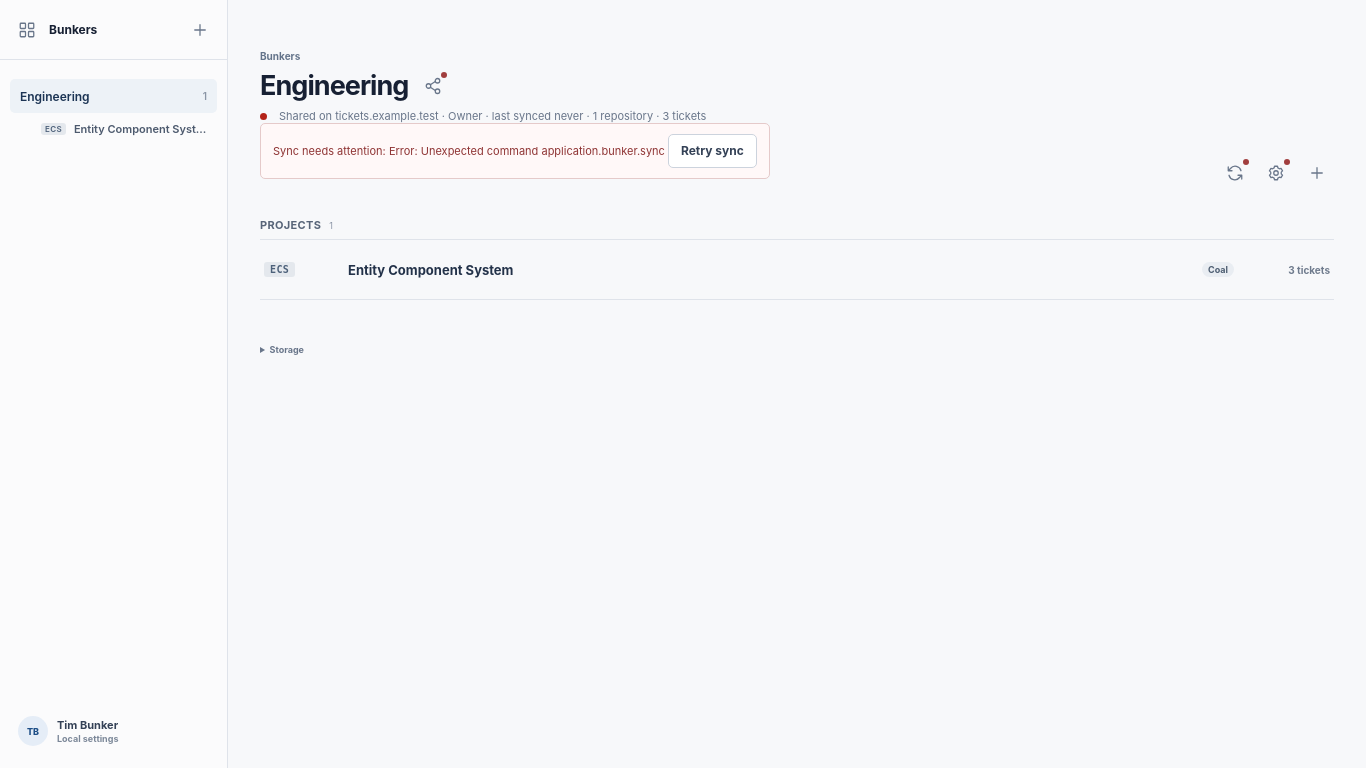
Scenario: Bunker and Project boundaries › gives a shared Bunker's owner Members with invitation links
The width and height of the screenshot is (1366, 768).
Expected: the text "Shared on tickets.example.test" is shown, [279,109,439,123]
Step 1. Click the heading named "Bunker settings" → (1278, 170), box [1267,159,1290,182]
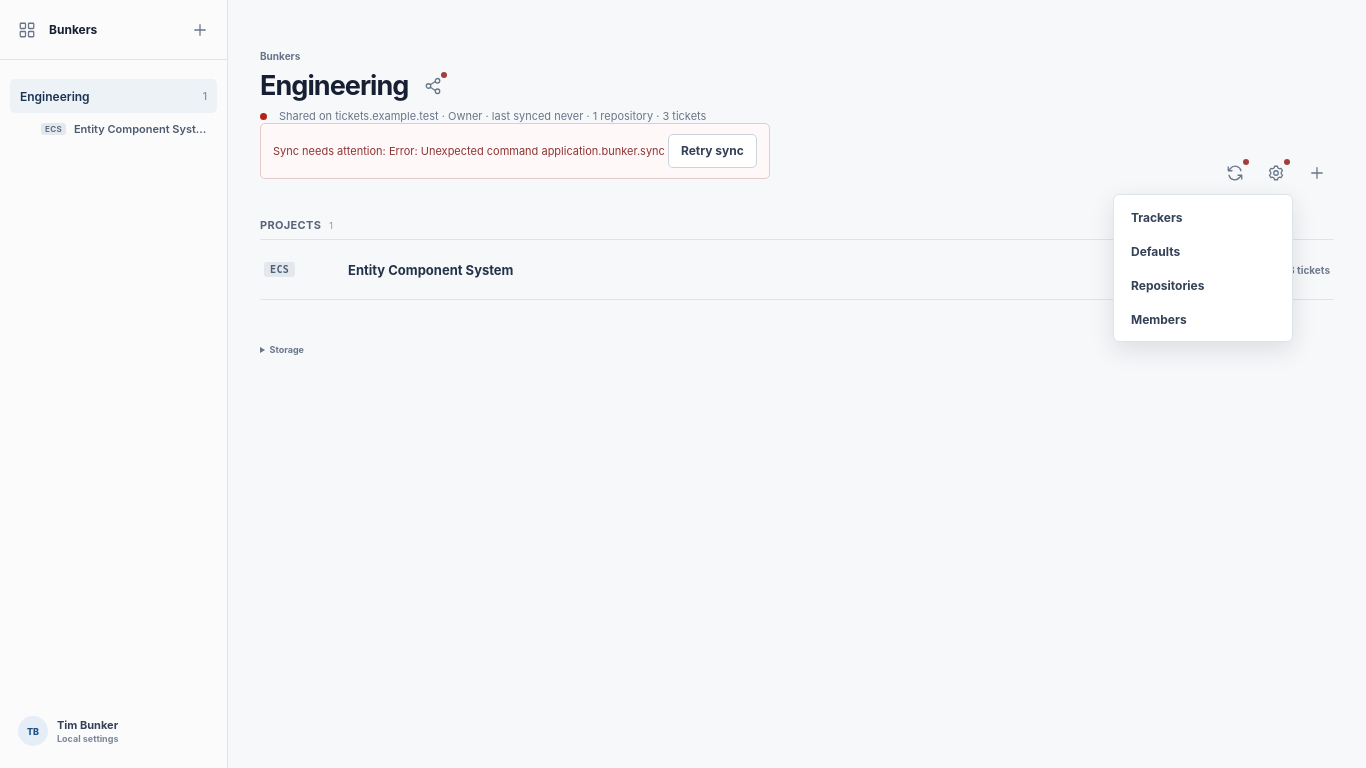
Step 2. Click the button "Members" → (1203, 319), box [1119,302,1287,336]
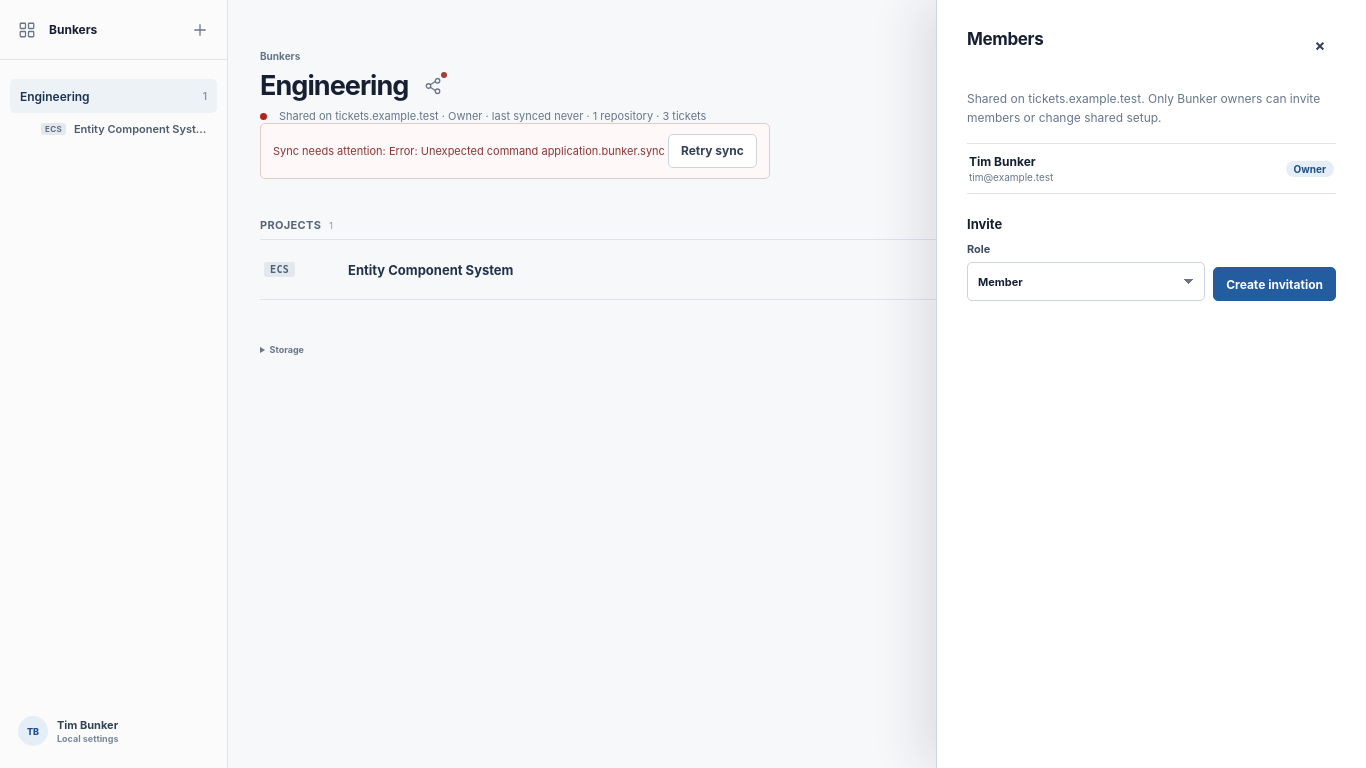
Expected: the 2nd text "Tim Bunker" is shown, [57,718,118,732]
Step 3. Click the button "Create invitation" → (1275, 284), box [1213,267,1336,301]
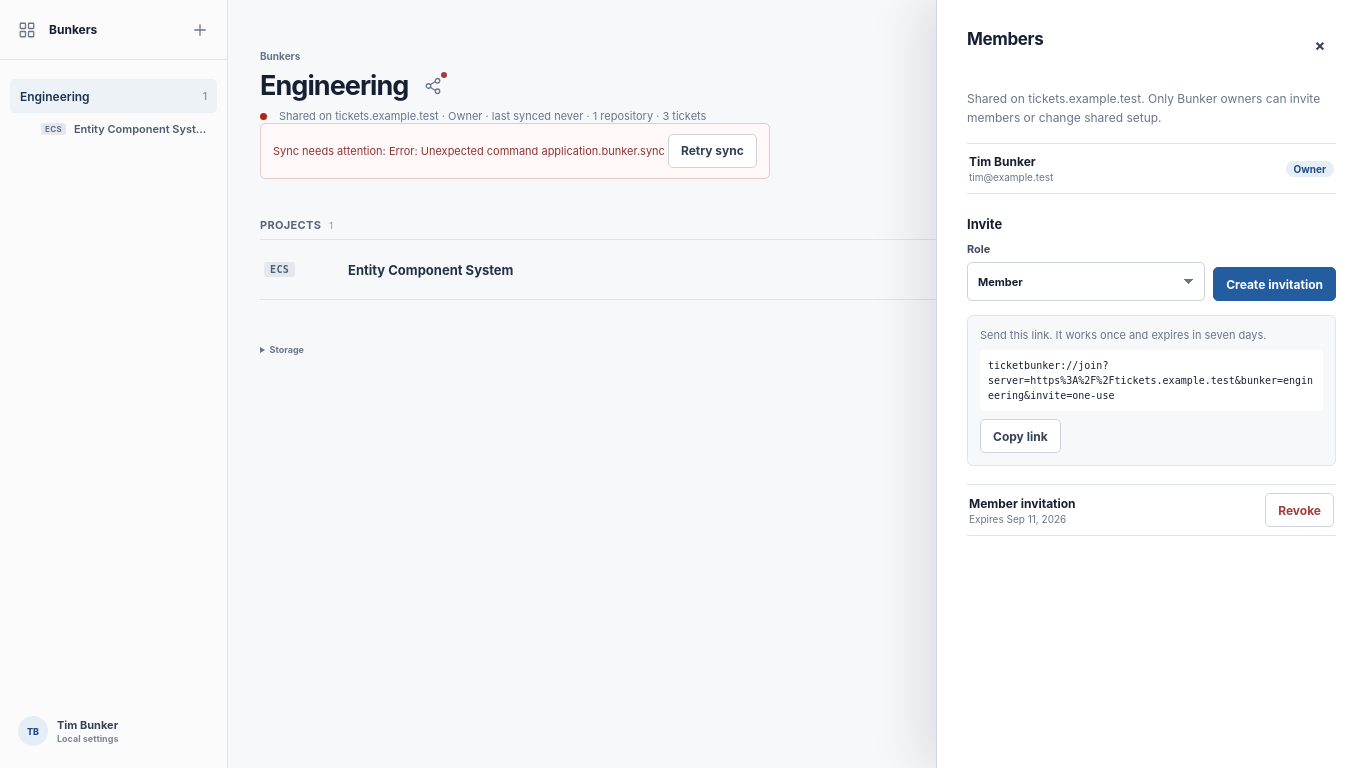
Result: the text "ticketbunker://join?" is shown at [988,360,1313,401]
Result: the button "Copy link" is shown at [980,419,1061,453]
Result: the button "Revoke" is shown at [1265,493,1334,527]
